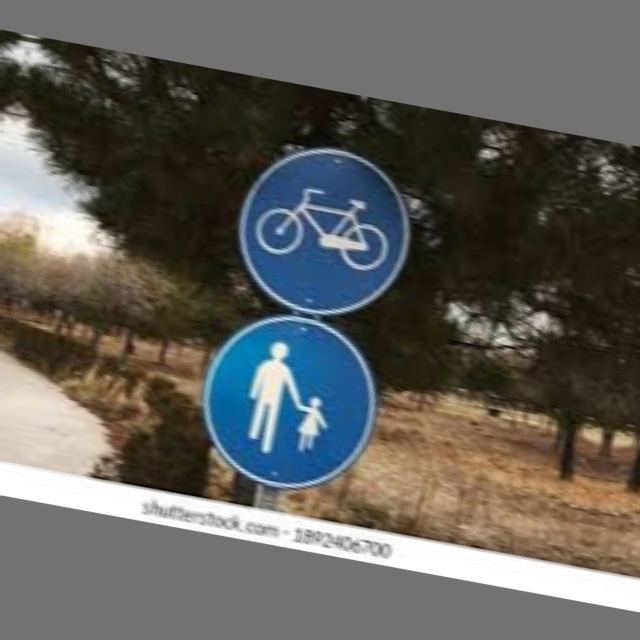Compulsory_Cycle_Track: (225, 134, 423, 325)
